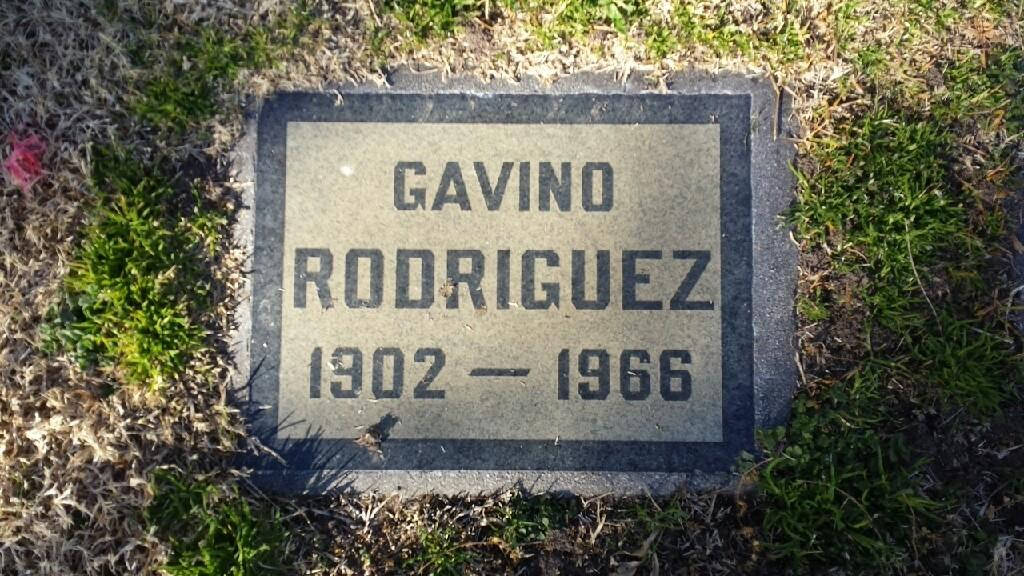flat: (209, 57, 807, 513)
